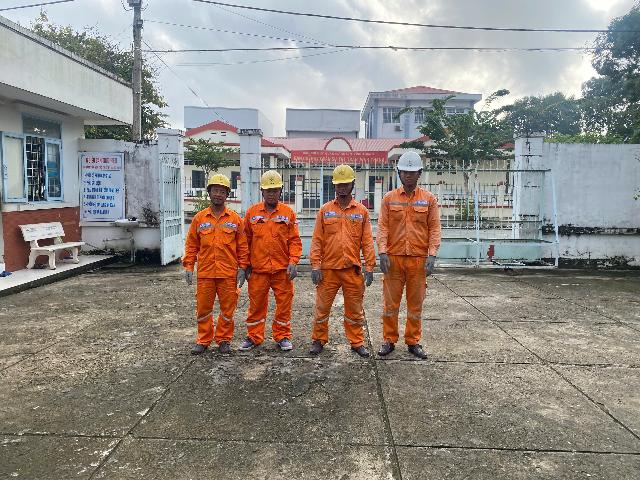gloves: (419, 247, 447, 288), (306, 258, 332, 292), (373, 246, 396, 277), (176, 264, 200, 292), (285, 252, 302, 286), (360, 265, 378, 293), (243, 254, 258, 283), (231, 262, 247, 289)
helmet: (384, 146, 431, 177), (257, 170, 293, 195), (325, 163, 361, 186), (201, 169, 234, 194)
shoes: (270, 327, 298, 355), (401, 335, 431, 361), (377, 331, 402, 360), (308, 333, 331, 361), (188, 335, 211, 358), (239, 336, 270, 353), (348, 340, 372, 361), (216, 336, 238, 354)
